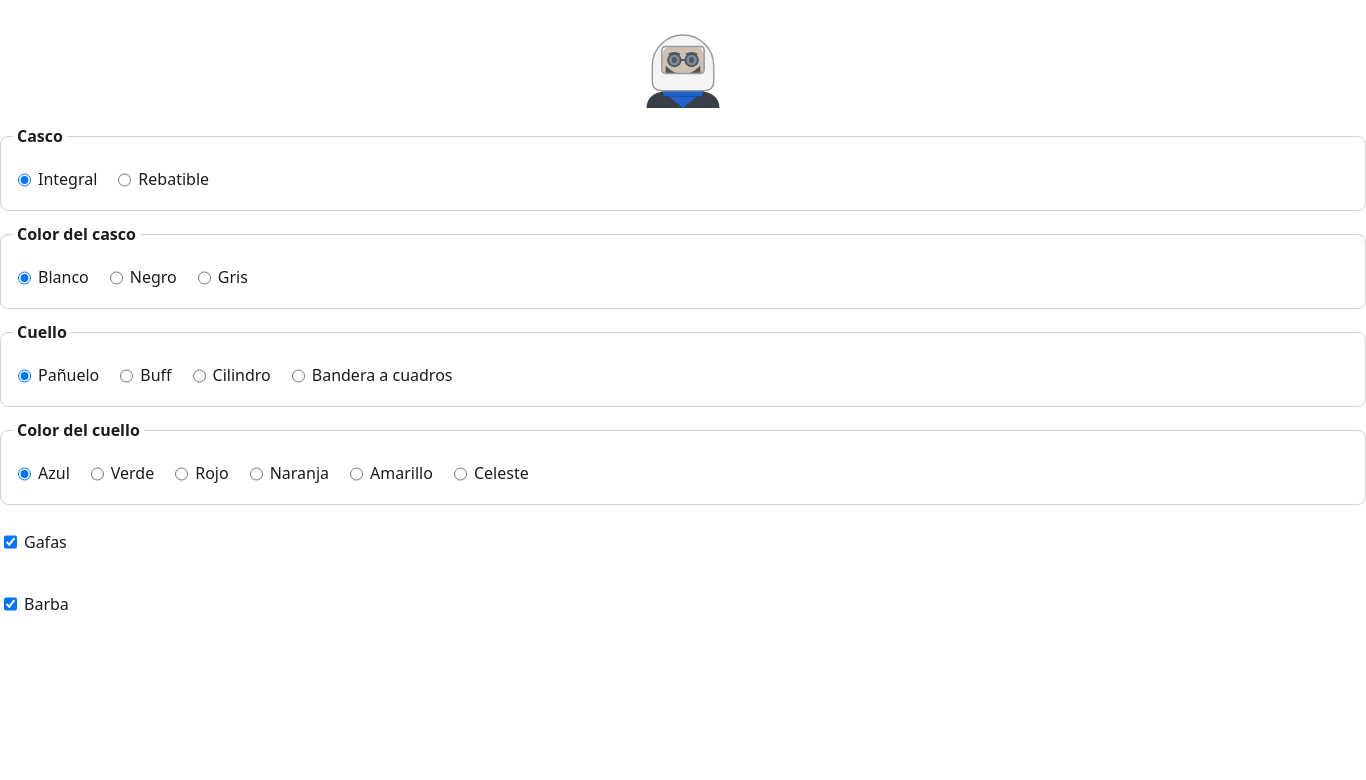
Test case: Armado del avatar › con la bandera a cuadros no ofrece elegir color de cuello
Expected: the element "Color del cuello" is shown, [0,419,1365,505]
Click the radio button labelled "Bandera a cuadros" at (298, 376), box [292,354,305,398]
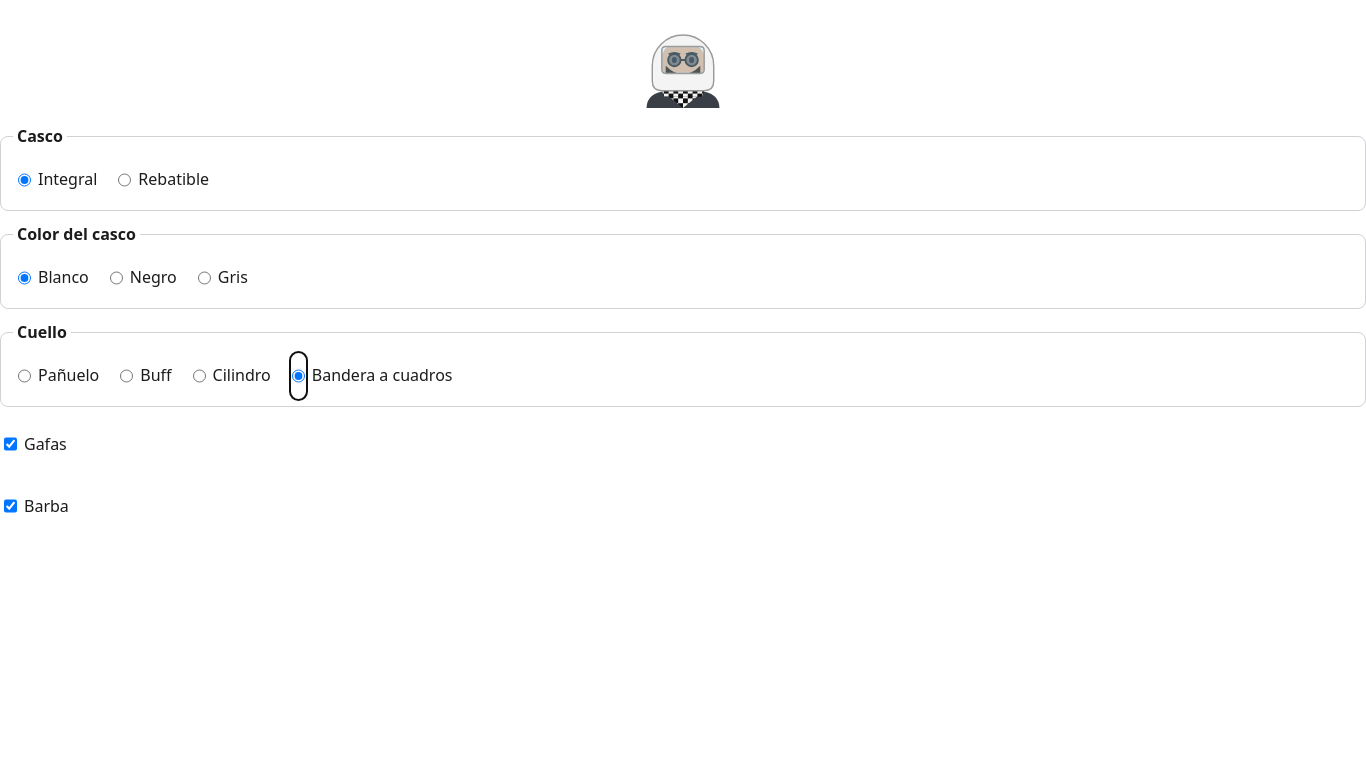
Expected: the text "Color del cuello" is gone
